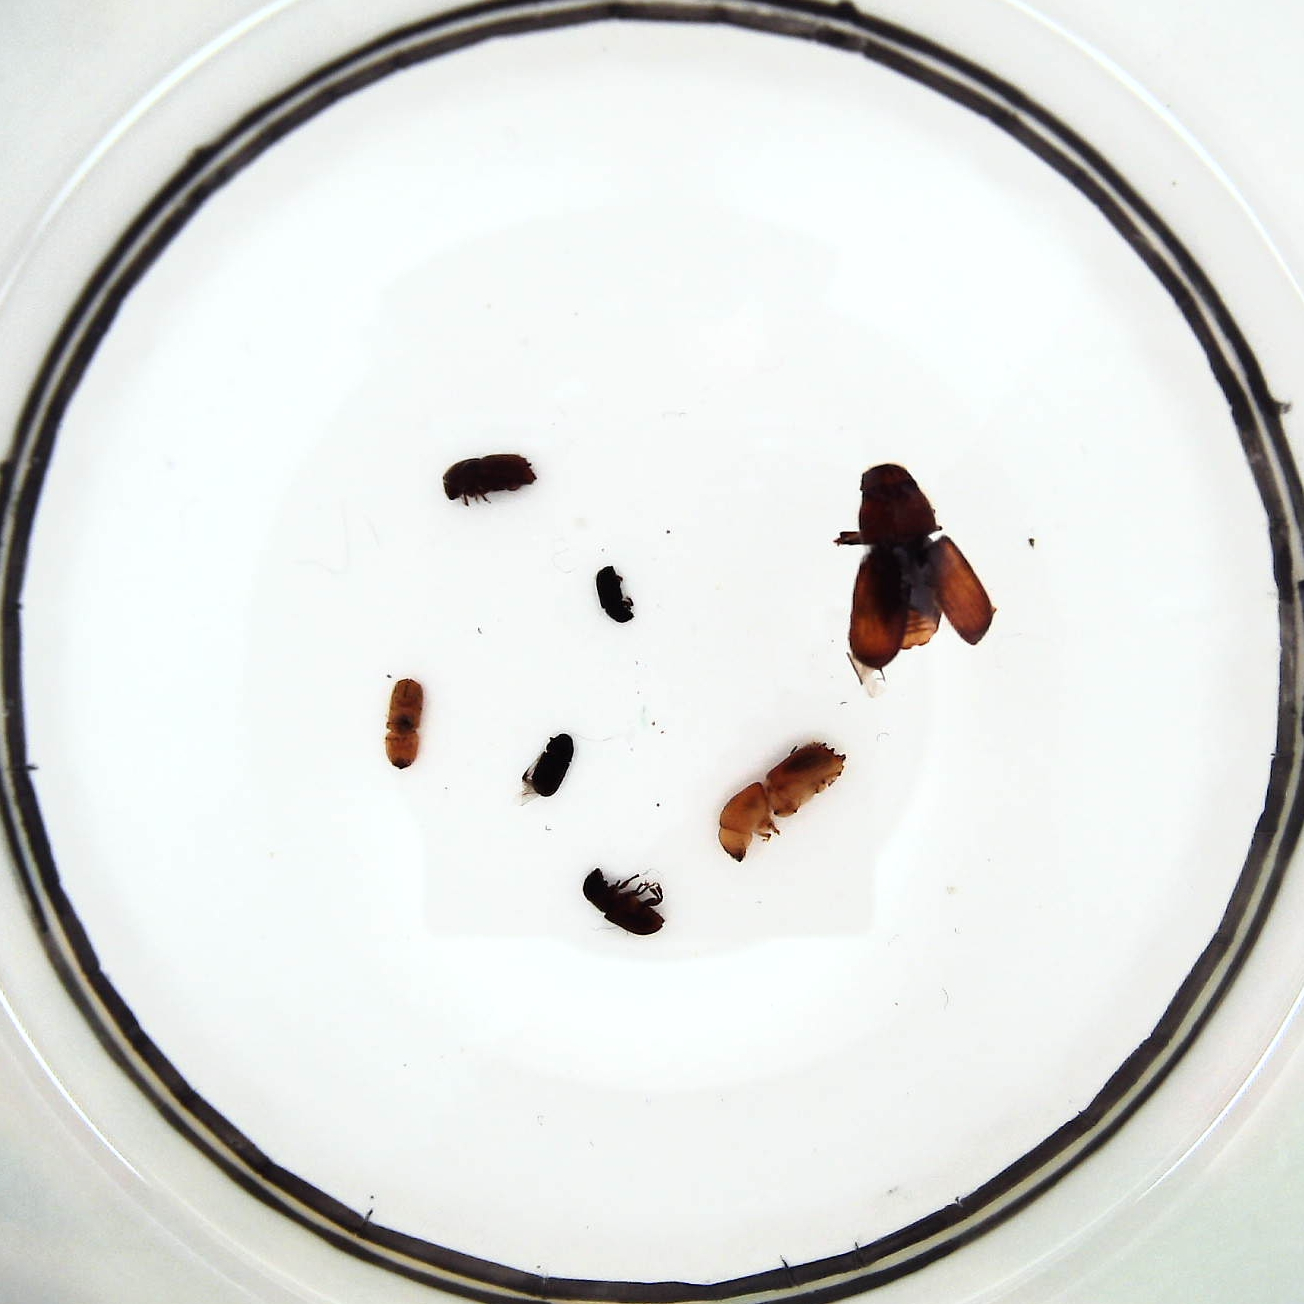Boerner: (718, 742, 844, 860)
Leconte: (845, 461, 994, 669)
Linnaeus: (442, 451, 536, 504)
acuminatus: (382, 679, 429, 770)
armandi: (584, 867, 666, 939)
coleoptera: (530, 733, 573, 800), (591, 566, 633, 625)
